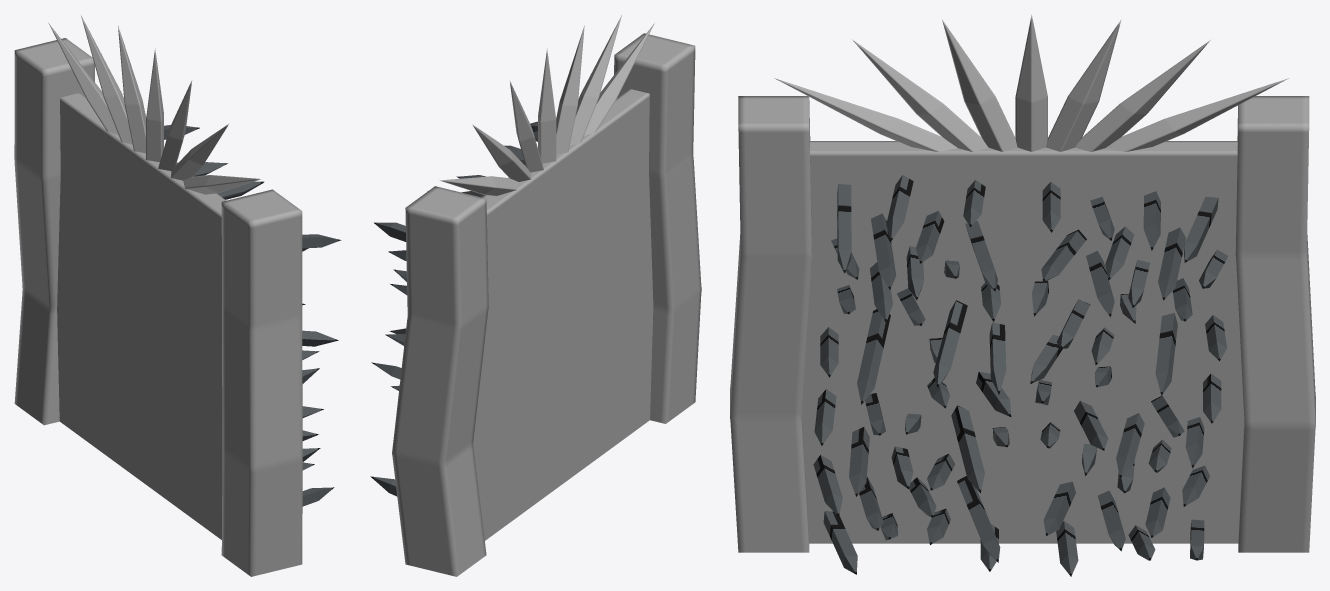
Rendered from SpikeWall.fbx.
3 views of the same model, side by side, from view 1: azimuth 30°, elevation 25°; view 2: azimuth 150°, elevation 25°; view 3: azimuth 270°, elevation 25° (orthographic). The views are drawn at different scales.
Parts seen in each view (by area): view 1: Plate, Beams, Ornament, Spikes; view 2: Plate, Beams, Ornament, Spikes; view 3: Plate, Beams, Spikes, Ornament.
Boxes of the visible parts, x1,y1,x2,y2 form: Plate: [57, 93, 226, 539]; Beams: [14, 38, 302, 576]; Ornament: [48, 15, 261, 194]; Spikes: [164, 125, 341, 506]; Plate: [473, 89, 653, 540]; Beams: [392, 33, 701, 576]; Ornament: [439, 15, 654, 196]; Spikes: [370, 121, 537, 496]; Plate: [801, 141, 1244, 543]; Beams: [730, 96, 1315, 552]; Spikes: [813, 175, 1228, 576]; Ornament: [774, 14, 1289, 151].
Size of the model in its own units: 85.34 by 248 by 252.
2 materials, 1 textured.
